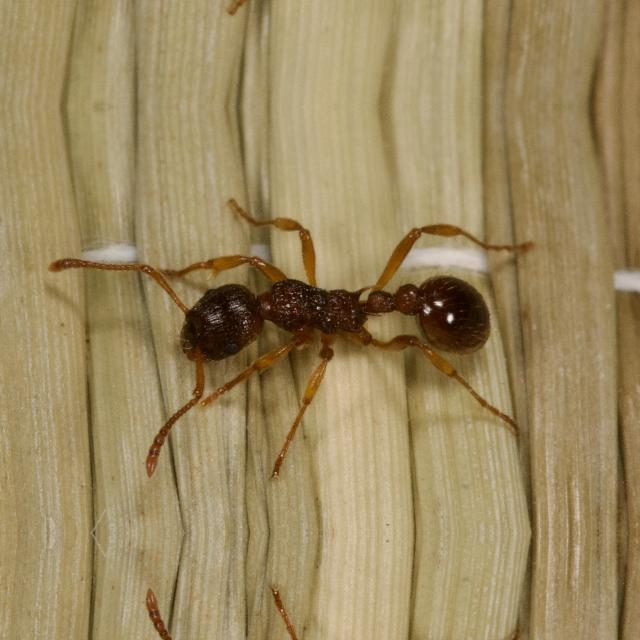Myrmica: (158, 230, 506, 386)
